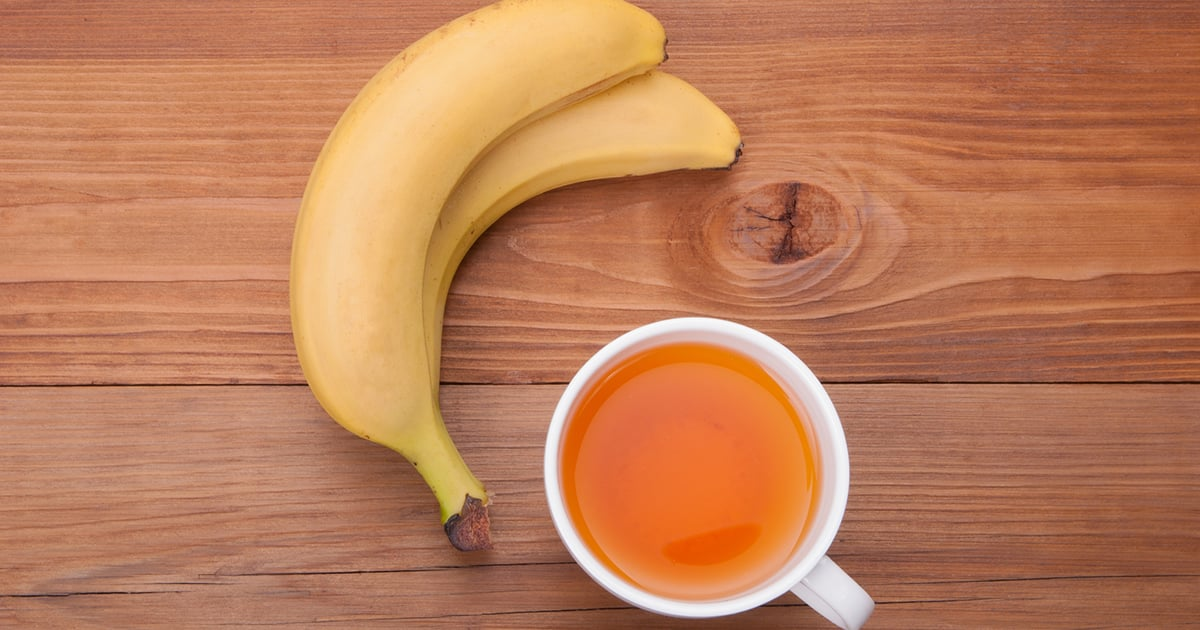banana: (286, 9, 730, 556)
